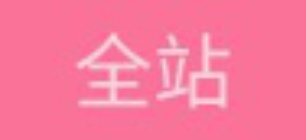TextView: (1, 1, 305, 139)
